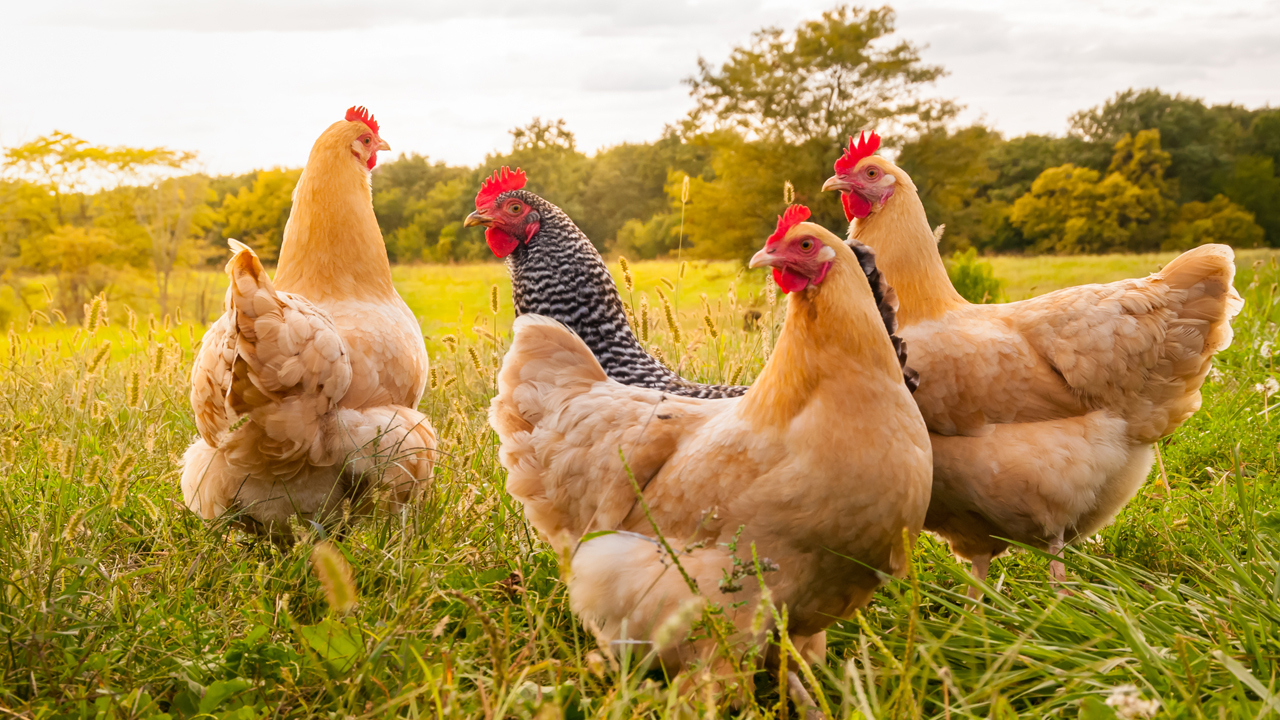chicken: (485, 204, 939, 685), (818, 128, 1242, 608), (459, 161, 935, 580), (175, 100, 446, 562)
